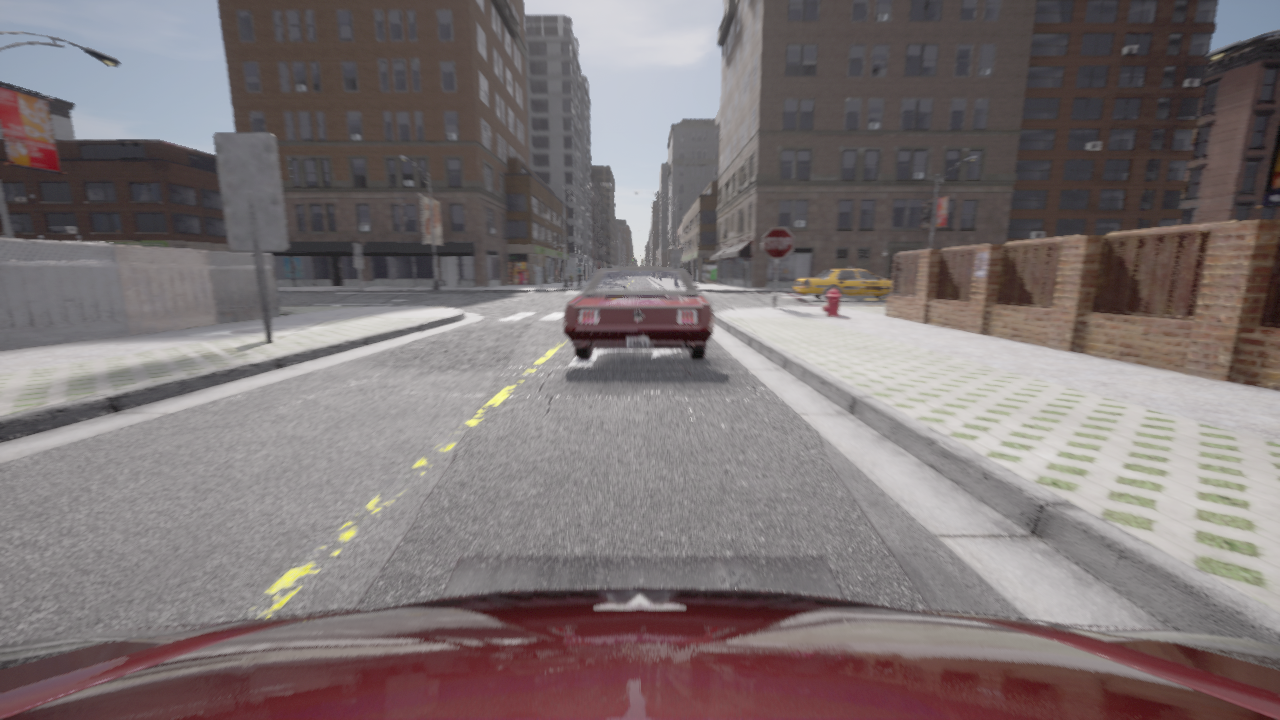cyclist: (0, 588, 1279, 719), (564, 267, 713, 359), (793, 266, 891, 299)
pedestrian: (576, 263, 582, 286), (570, 272, 573, 286)
